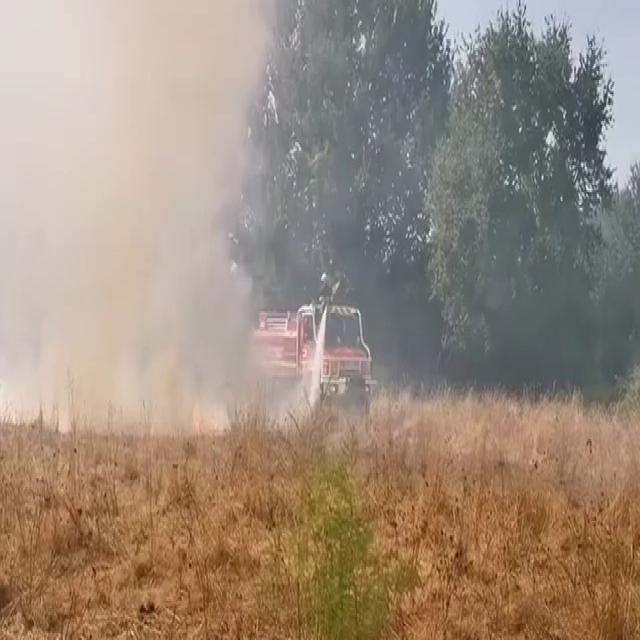Smoke: (0, 0, 297, 443)
